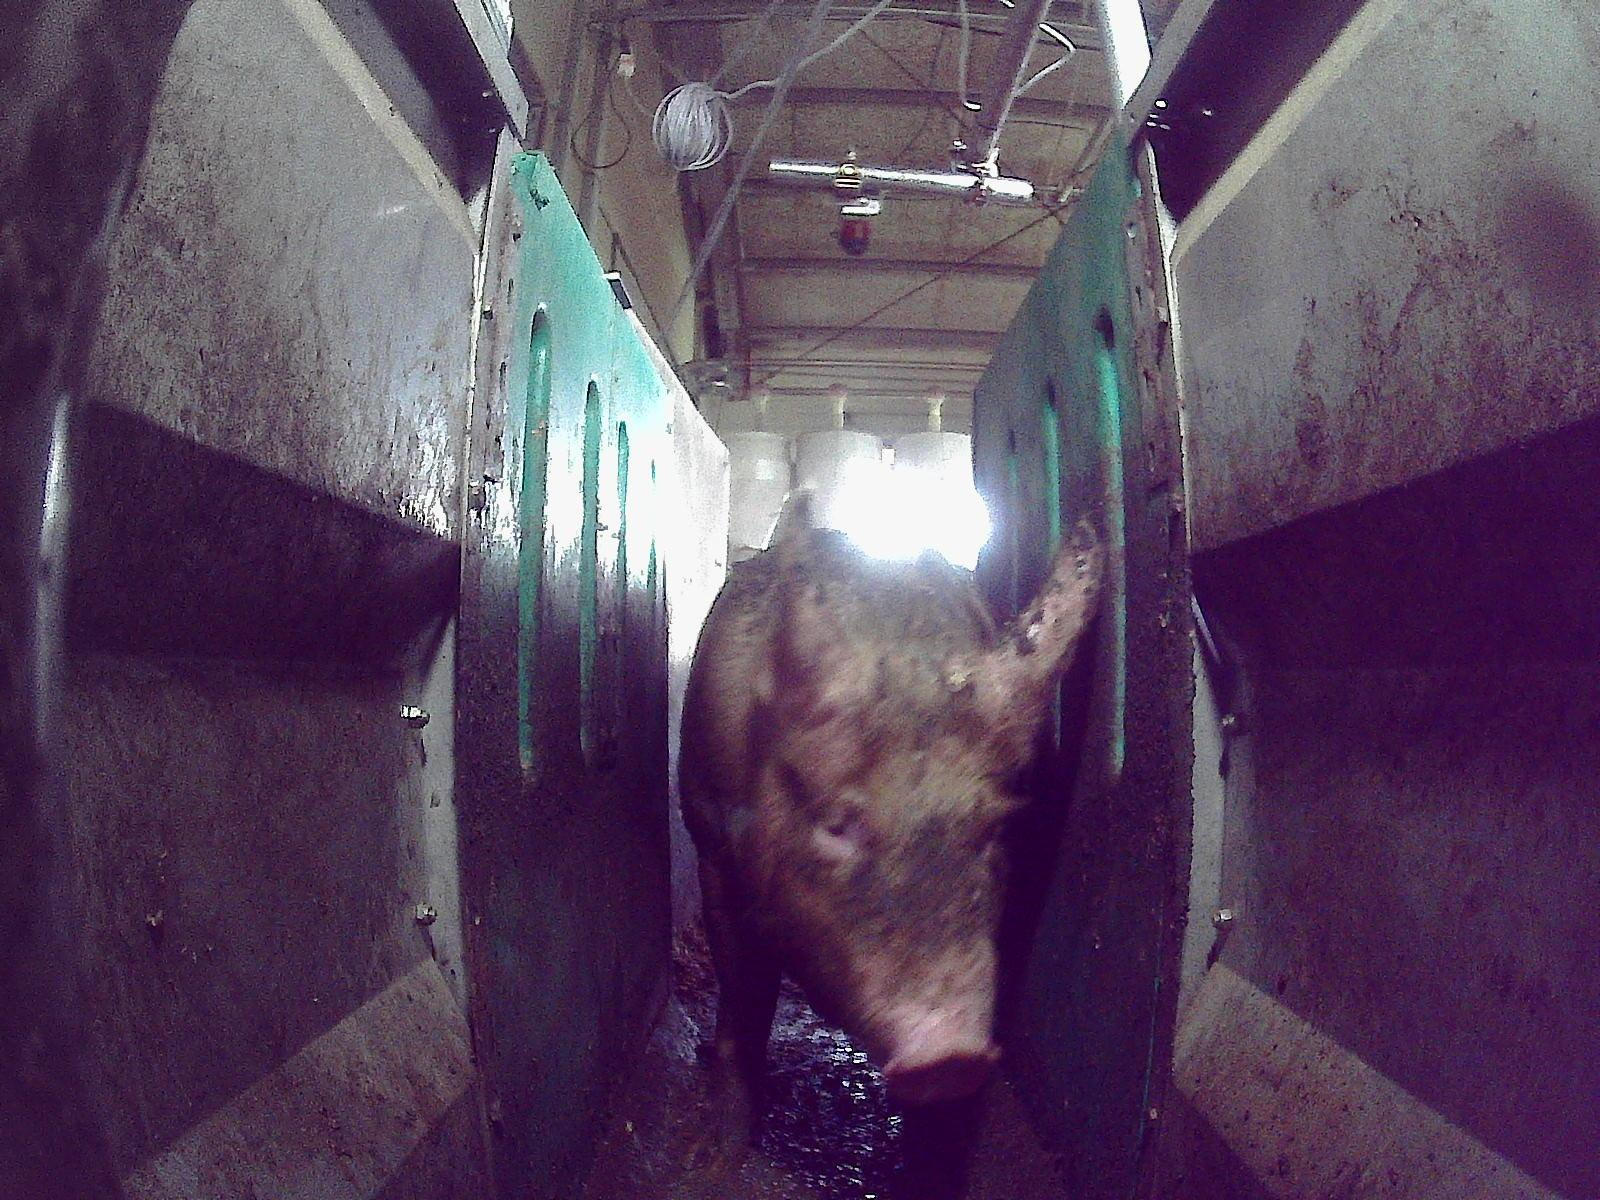Face: (773, 688, 1018, 1104)
